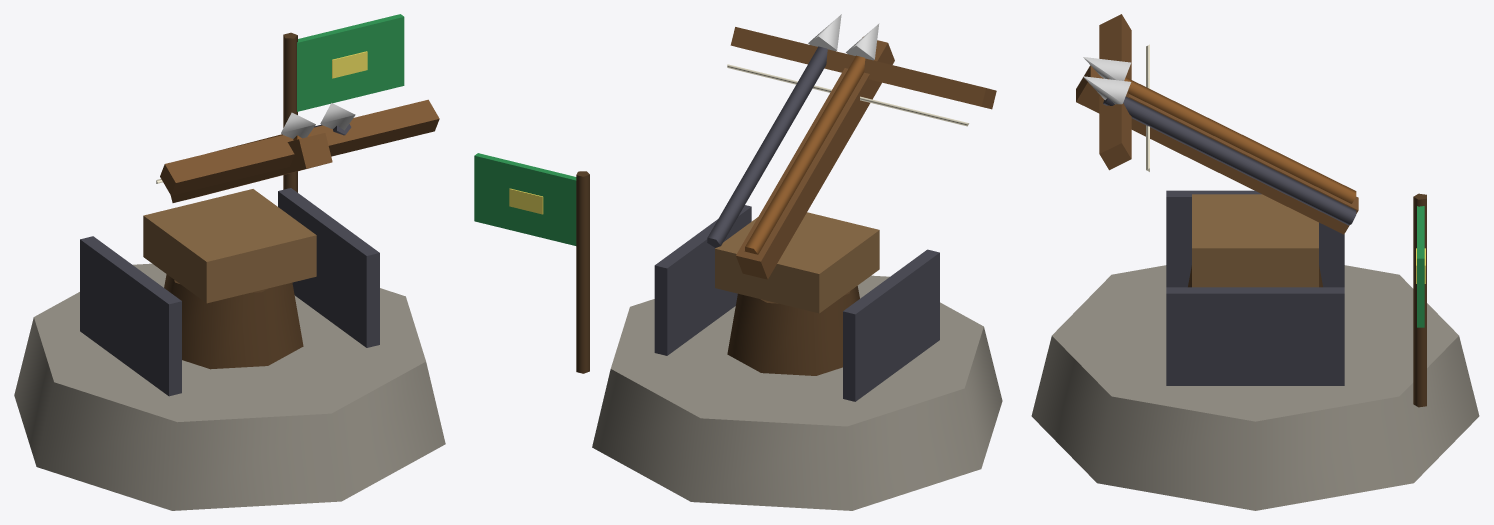
File: level2.glb
The picture shows the model from 3 angles, left to right: view 1: azimuth 30°, elevation 25°; view 2: azimuth 150°, elevation 25°; view 3: azimuth 270°, elevation 25°; orthographic projection. The views are drawn at different scales.
Visible parts, largest first — view 1: object 1, turret, object 7, object 2, object 8, object 5, object 4, object 6; view 2: object 1, turret, object 7, object 2, object 8, object 5, object 4, object 6; view 3: object 1, turret, object 8, object 7, object 4, object 5.
Part boxes in pixels (left/top/right/bottom): object 1: left=14, top=263, right=445, bottom=510; turret: left=143, top=99, right=439, bottom=303; object 7: left=80, top=236, right=181, bottom=396; object 2: left=164, top=274, right=303, bottom=369; object 8: left=278, top=188, right=379, bottom=347; object 5: left=297, top=14, right=404, bottom=111; object 4: left=283, top=32, right=297, bottom=192; object 6: left=332, top=51, right=367, bottom=78; object 1: left=592, top=275, right=1002, bottom=510; turret: left=707, top=14, right=996, bottom=313; object 7: left=843, top=249, right=939, bottom=401; object 2: left=727, top=286, right=859, bottom=375; object 8: left=654, top=205, right=751, bottom=355; object 5: left=474, top=153, right=576, bottom=245; object 4: left=576, top=171, right=589, bottom=373; object 6: left=509, top=188, right=543, bottom=214; object 1: left=1031, top=265, right=1479, bottom=510; turret: left=1076, top=14, right=1358, bottom=287; object 8: left=1166, top=287, right=1344, bottom=385; object 7: left=1166, top=190, right=1344, bottom=287; object 4: left=1413, top=193, right=1426, bottom=407; object 5: left=1417, top=206, right=1424, bottom=327.
Size of the model in its own units: 2.16 by 1.65 by 1.87.
